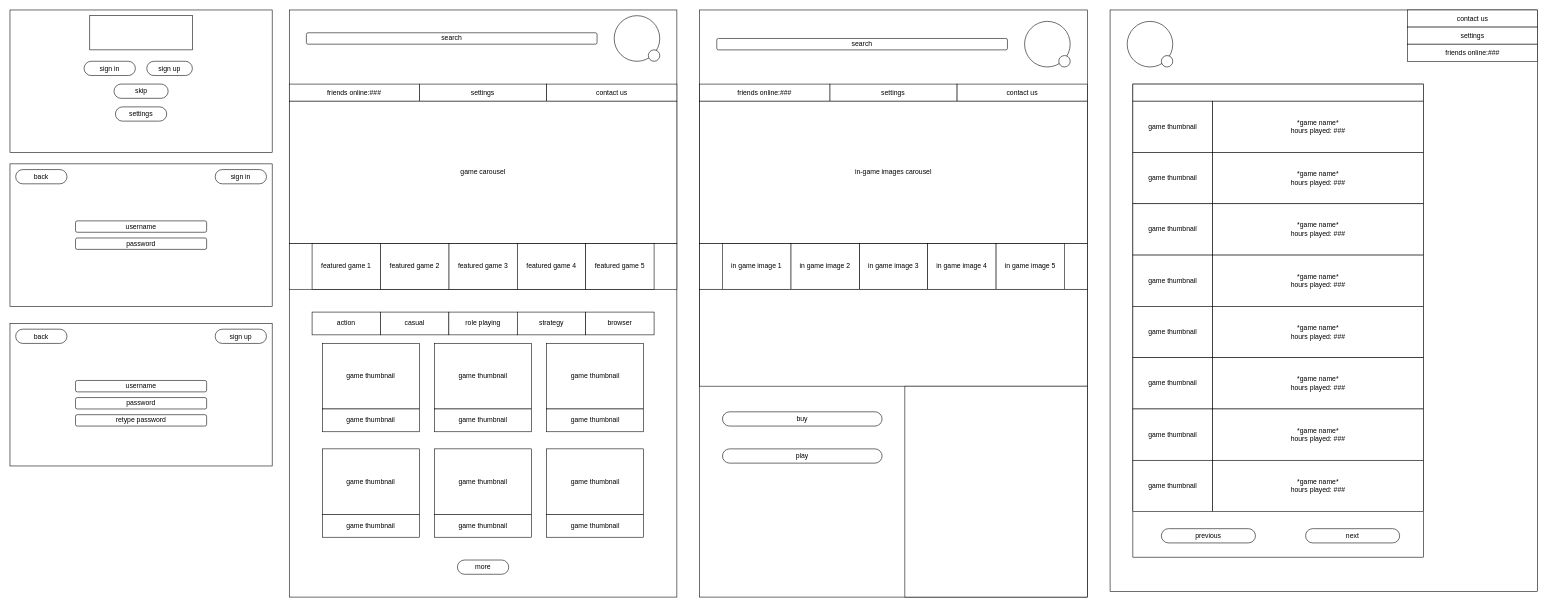
The diagram is 1548 pixels wide and 607 high, and some of its shapes have lost their labels. Each missing label, with the box of its shape:
game description: (699, 289, 1087, 386)
game reviews: (904, 386, 1087, 597)
library: (1132, 84, 1424, 101)
website logo: (89, 15, 192, 50)
